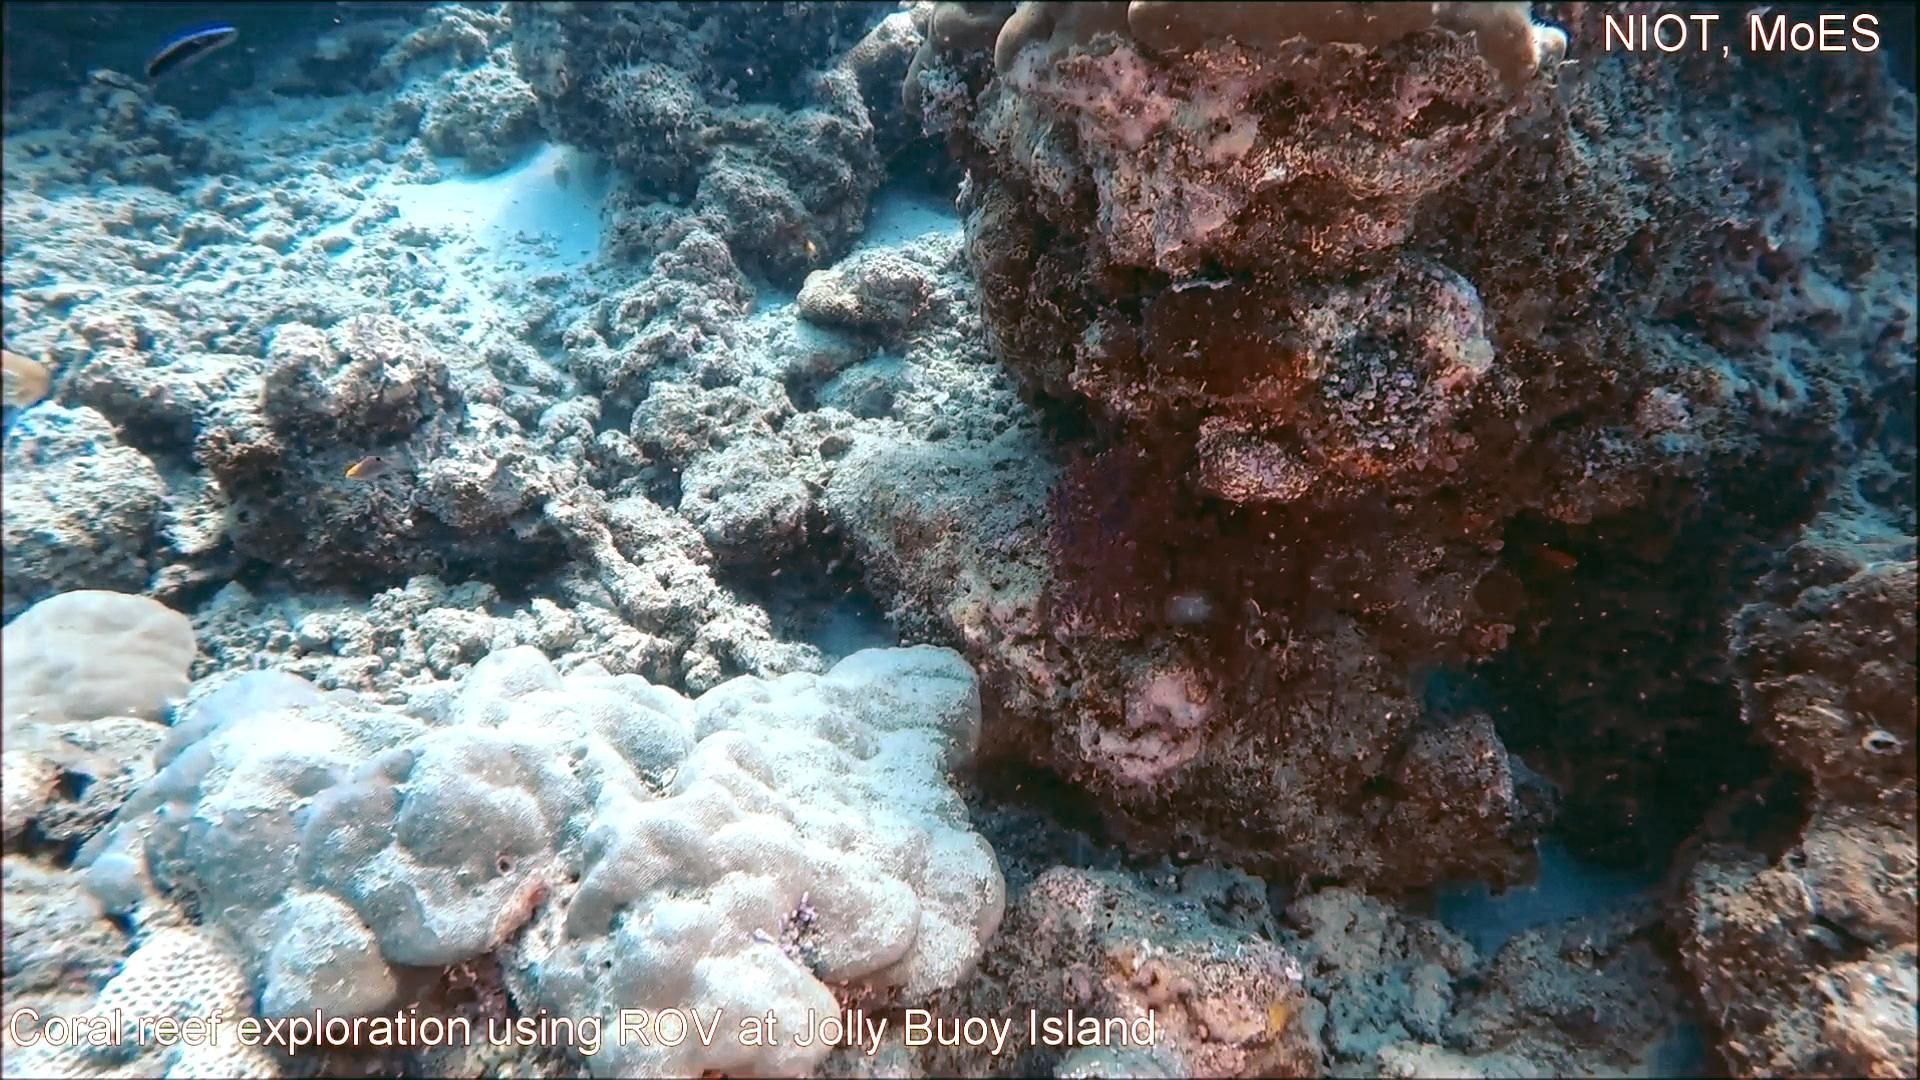Goniastrea-Goniastrea pectinata: (3, 920, 280, 1080)
Gorgonian-Purple Plexaura: (1036, 401, 1385, 757)
Porites-Porites pukoensis: (390, 637, 1015, 1080), (986, 0, 1559, 87)
